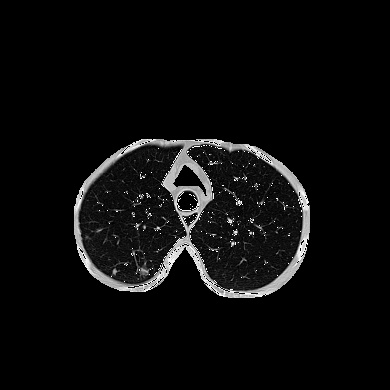PN: (113, 269, 117, 273)
